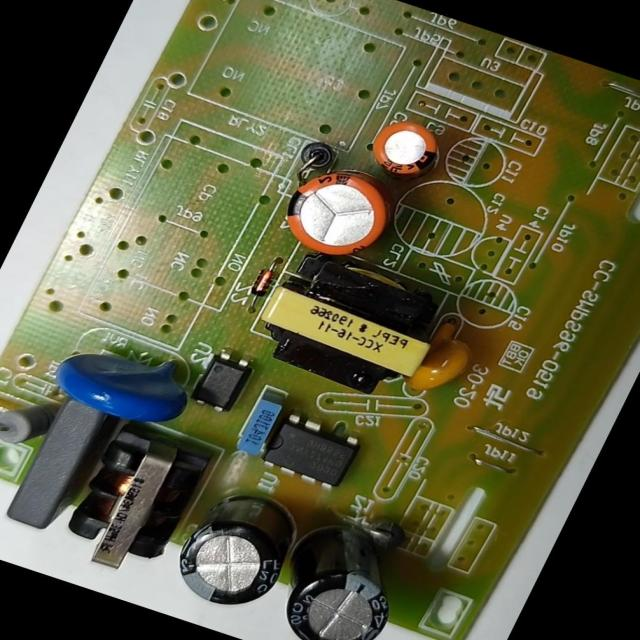Cap1: (271, 154, 405, 268)
Cap2: (362, 112, 449, 183)
Cap3: (162, 481, 310, 617)
Cap4: (255, 514, 422, 639)
MOSFET: (260, 413, 362, 492)
Mov: (44, 327, 205, 436)
Resistor: (0, 387, 63, 455)
Transformer: (242, 244, 455, 406), (53, 418, 216, 582)
